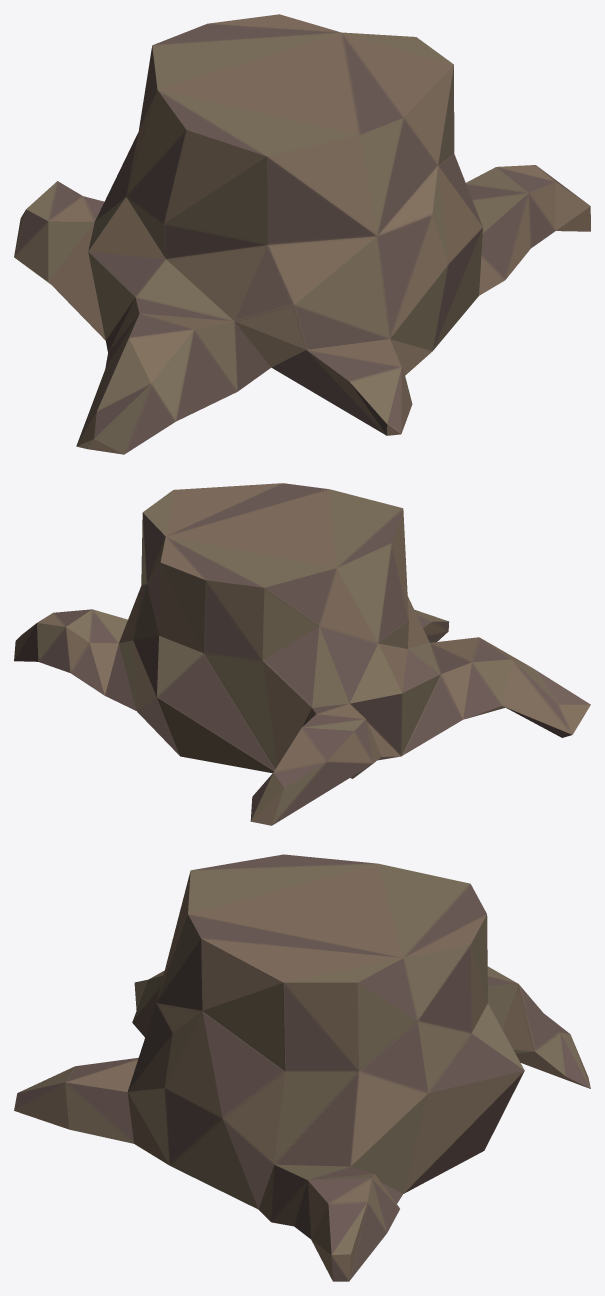
Rendered from Isla_Bosque_Arbol_Cortado.FBX.
3 views of the same model, one above another, from view 1: azimuth 30°, elevation 25°; view 2: azimuth 150°, elevation 25°; view 3: azimuth 270°, elevation 25° (orthographic). The views are drawn at different scales.
Visible parts, largest first — view 1: Isla_Bosque_Arbol_Cortado; view 2: Isla_Bosque_Arbol_Cortado; view 3: Isla_Bosque_Arbol_Cortado.
Boxes of the visible parts, <box> form: Isla_Bosque_Arbol_Cortado: <box>14,14,590,454</box>; Isla_Bosque_Arbol_Cortado: <box>14,483,590,825</box>; Isla_Bosque_Arbol_Cortado: <box>14,854,590,1281</box>.
Bounding box in the file's own units: 63.24 × 24.41 × 53.79.
Materials: 1 (1 with a texture image).
